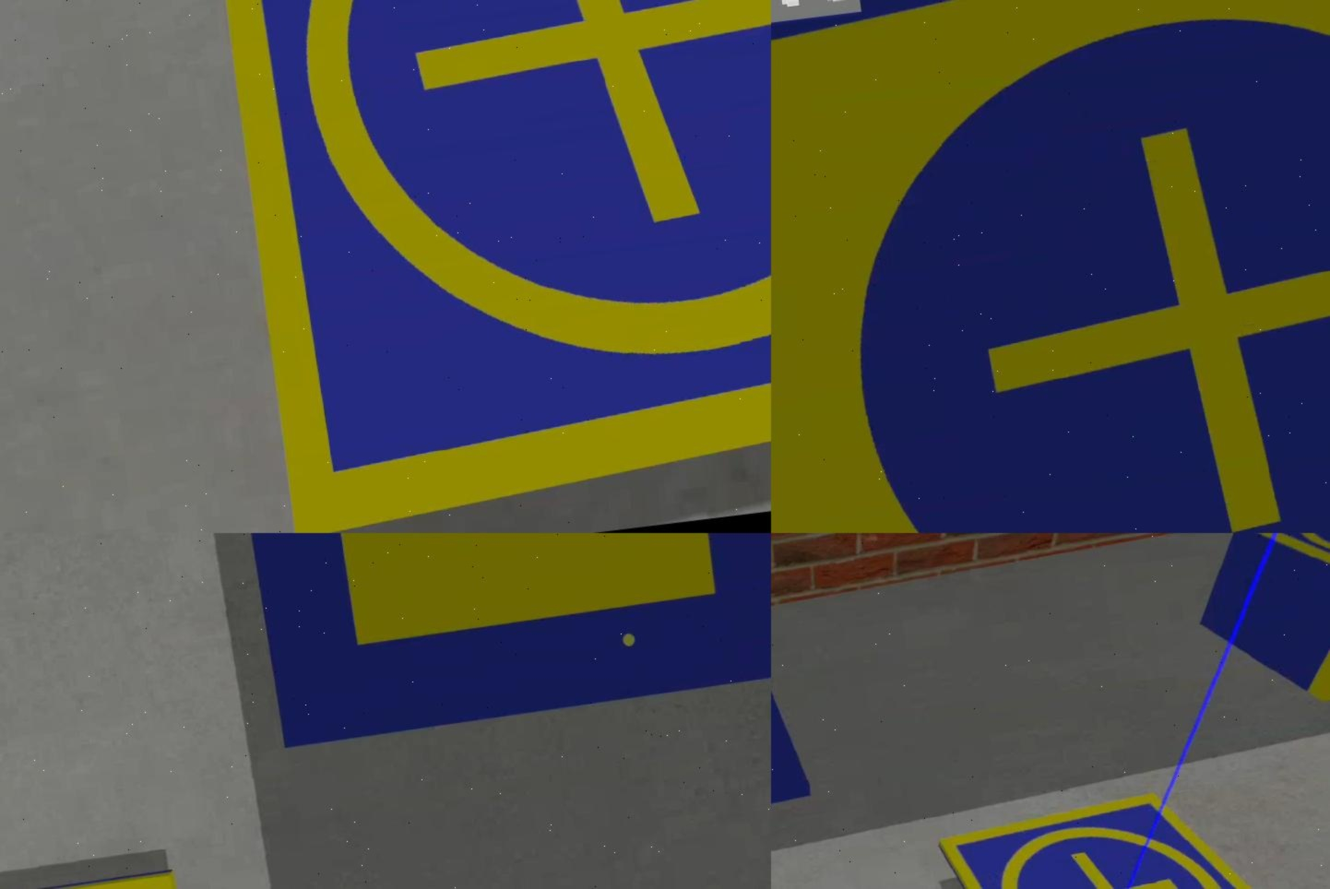large_base: (771, 1, 1330, 534), (203, 534, 771, 751)
small_base: (201, 1, 771, 534), (935, 772, 1330, 889), (1232, 534, 1330, 594), (1, 868, 187, 889)
